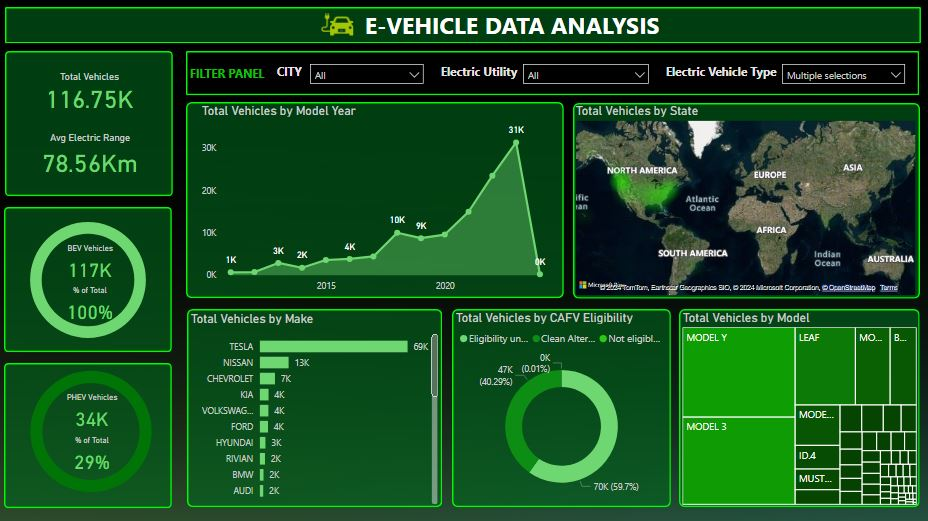

The page's visual inventory and layout, read from the dashboard file:
{"tool":"powerbi","page":{"name":"Page 1","canvas":[1280,720],"ordinal":0},"visuals":[{"type":"shape","box":[9.1,12.1,1260.6,50],"z":0},{"type":"shape","box":[9.1,72.7,231,200],"z":1000},{"type":"card","title":"Total Vehicles","fields":{"Values":["Electric_Vehicle_Population_Data.Total Vehicles"]},"box":[24.8,100.5,202.3,56.4],"z":2000},{"type":"card","title":"Avg Electric Range","fields":{"Values":["Electric_Vehicle_Population_Data.Avg Range"]},"box":[26.2,184.4,200.9,66.1],"z":3000},{"type":"shape","box":[8.5,287.7,231,199.8],"z":4000},{"type":"shape","box":[8.5,501.7,231,199.8],"z":5000},{"type":"donutChart","fields":{"Category":["Electric_Vehicle_Population_Data.Electric Vehicle Type"],"Y":["Electric_Vehicle_Population_Data.Total Vehicles"]},"box":[8.3,283.5,231.2,209.2],"z":6000},{"type":"card","title":"BEV Vehicles","fields":{"Values":["Electric_Vehicle_Population_Data.BEV Vehicles"]},"box":[58.2,338.5,137.5,58.1],"z":7000},{"type":"card","title":"% of Total","fields":{"Values":["Electric_Vehicle_Population_Data.% of BEV"]},"box":[58.2,396.6,137.5,58.1],"z":8000},{"type":"donutChart","fields":{"Category":["Electric_Vehicle_Population_Data.Electric Vehicle Type"],"Y":["Electric_Vehicle_Population_Data.Total Vehicles"]},"box":[9.6,487.2,236.7,218.8],"z":9000},{"type":"card","title":"PHEV Vehicles","fields":{"Values":["Electric_Vehicle_Population_Data.PHEV Vehicles"]},"box":[60.9,544.3,137.5,58.1],"z":10000},{"type":"card","title":"% of Total","fields":{"Values":["Electric_Vehicle_Population_Data.% of PHEV"]},"box":[60.9,602.4,137.5,58.1],"z":11000},{"type":"shape","box":[259.4,72.3,1009.1,60.9],"z":12000},{"type":"shape","box":[259.4,143.1,520,270],"z":13000},{"type":"areaChart","fields":{"Category":["Electric_Vehicle_Population_Data.Model Year"],"Y":["Electric_Vehicle_Population_Data.Total Vehicles"]},"box":[275.3,144.5,488.6,269.8],"z":14000},{"type":"shape","box":[790.9,144.6,477.6,269.3],"z":15000},{"type":"shape","box":[260,428.6,351.4,272.9],"z":16000},{"type":"barChart","fields":{"Category":["Electric_Vehicle_Population_Data.Make"],"Y":["Electric_Vehicle_Population_Data.Total Vehicles"]},"box":[260.5,430.3,350,271.1],"z":17000},{"type":"shape","box":[624.3,428.6,301.4,272.9],"z":18000},{"type":"donutChart","title":"Total Vehicles by CAFV Eligibility","fields":{"Category":["Electric_Vehicle_Population_Data.Clean Alternative Fuel Vehicle (CAFV) Eligibility"],"Y":["Electric_Vehicle_Population_Data.Total Vehicles"]},"box":[624.9,429.4,301.4,272.5],"z":19000},{"type":"textbox","box":[258.8,88.1,130.8,37.2],"z":20000},{"type":"slicer","fields":{"Values":["Electric_Vehicle_Population_Data.City"]},"box":[419.5,80.8,175.7,48.2],"z":21000},{"type":"textbox","box":[378.4,85,56.7,39.7],"z":22000},{"type":"slicer","fields":{"Values":["Electric_Vehicle_Population_Data.Electric Utility"]},"box":[712.7,80.8,192.8,48.2],"z":23000},{"type":"textbox","box":[603.5,85,133.2,39.7],"z":24000},{"type":"slicer","fields":{"Values":["Electric_Vehicle_Population_Data.Electric Vehicle Type"]},"box":[1070.1,80.8,188.5,48.2],"z":25000},{"type":"textbox","box":[914.2,85,178.6,39.7],"z":26000},{"type":"map","fields":{"Category":["Electric_Vehicle_Population_Data.State"],"Size":["Electric_Vehicle_Population_Data.Total Vehicles"]},"box":[790,144.5,477.6,269.8],"z":27000},{"type":"image","box":[426.1,2.8,86.5,73.7],"z":28000},{"type":"shape","box":[937.1,428.6,331.4,272.9],"z":29000},{"type":"textbox","box":[499.6,9.6,423.9,60.6],"z":30000},{"type":"treemap","fields":{"Group":["Electric_Vehicle_Population_Data.Model"],"Values":["Electric_Vehicle_Population_Data.Total Vehicles"]},"box":[937.3,429.4,331.7,272.5],"z":31000}]}

Visuals, with their boxes in screenshot pixels (x1, y1, x2, y2), scaled from the page's 1280x720 canvas onto the 928x521 screenshot:
shape: select_region(7, 9, 921, 45)
shape: select_region(7, 53, 174, 197)
"Total Vehicles" card: select_region(18, 73, 165, 114)
"Avg Electric Range" card: select_region(19, 133, 165, 181)
shape: select_region(6, 208, 174, 353)
shape: select_region(6, 363, 174, 508)
donutChart - Electric_Vehicle_Population_Data.Electric Vehicle Type x Electric_Vehicle_Population_Data.Total Vehicles: select_region(6, 205, 174, 357)
"BEV Vehicles" card: select_region(42, 245, 142, 287)
"% of Total" card: select_region(42, 287, 142, 329)
donutChart - Electric_Vehicle_Population_Data.Electric Vehicle Type x Electric_Vehicle_Population_Data.Total Vehicles: select_region(7, 353, 179, 511)
"PHEV Vehicles" card: select_region(44, 394, 144, 436)
"% of Total" card: select_region(44, 436, 144, 478)
shape: select_region(188, 52, 920, 96)
shape: select_region(188, 104, 565, 299)
areaChart - Electric_Vehicle_Population_Data.Model Year x Electric_Vehicle_Population_Data.Total Vehicles: select_region(200, 105, 554, 300)
shape: select_region(573, 105, 920, 300)
shape: select_region(188, 310, 443, 508)
barChart - Electric_Vehicle_Population_Data.Make x Electric_Vehicle_Population_Data.Total Vehicles: select_region(189, 311, 443, 508)
shape: select_region(453, 310, 671, 508)
"Total Vehicles by CAFV Eligibility" donutChart: select_region(453, 311, 672, 508)
textbox: select_region(188, 64, 282, 91)
slicer - Electric_Vehicle_Population_Data.City: select_region(304, 58, 432, 93)
textbox: select_region(274, 62, 315, 90)
slicer - Electric_Vehicle_Population_Data.Electric Utility: select_region(517, 58, 656, 93)
textbox: select_region(438, 62, 534, 90)
slicer - Electric_Vehicle_Population_Data.Electric Vehicle Type: select_region(776, 58, 912, 93)
textbox: select_region(663, 62, 792, 90)
map - Electric_Vehicle_Population_Data.State x Electric_Vehicle_Population_Data.Total Vehicles: select_region(573, 105, 919, 300)
image: select_region(309, 2, 372, 55)
shape: select_region(679, 310, 920, 508)
textbox: select_region(362, 7, 670, 51)
treemap - Electric_Vehicle_Population_Data.Model x Electric_Vehicle_Population_Data.Total Vehicles: select_region(680, 311, 920, 508)
